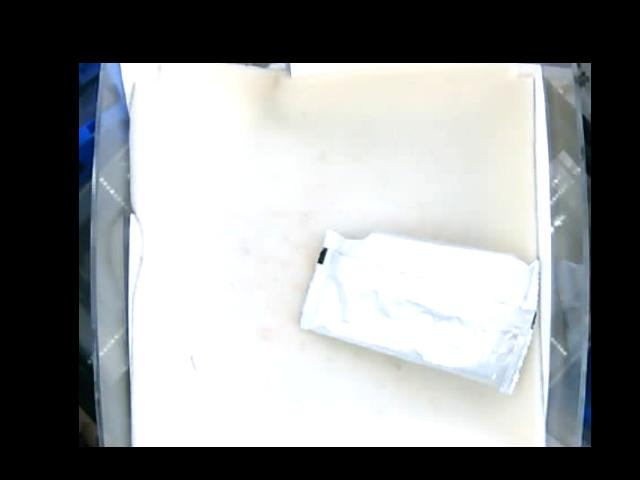Medicine: (301, 228, 547, 390)
